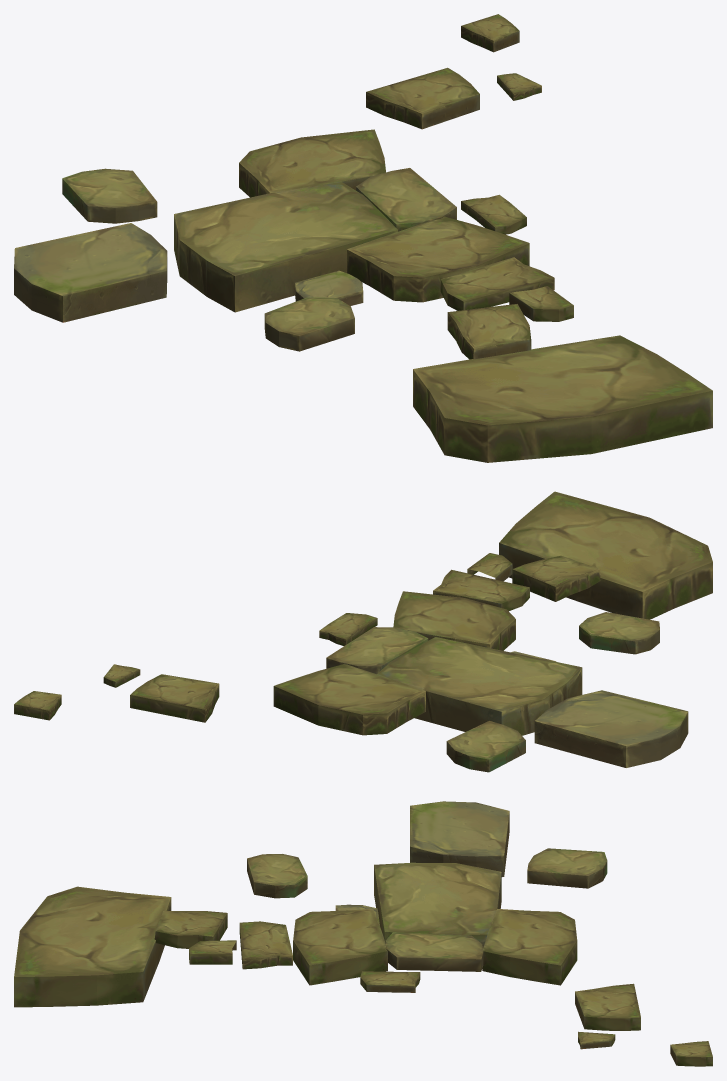
The model's file is shiban01.FBX.
3 renders of one model, top to bottom at view 1: azimuth 30°, elevation 25°; view 2: azimuth 150°, elevation 25°; view 3: azimuth 270°, elevation 25°, orthographic. The views are drawn at different scales.
Visible parts, largest first — view 1: shiban; view 2: shiban; view 3: shiban.
Boxes of the visible parts, x1=… form: shiban: x1=14, y1=14, x2=712, y2=462; shiban: x1=14, y1=491, x2=712, y2=772; shiban: x1=14, y1=801, x2=712, y2=1066.
Bounding box in the file's own units: 32.94 × 38.86 × 2.61.
Materials: 1 (1 with a texture image).
